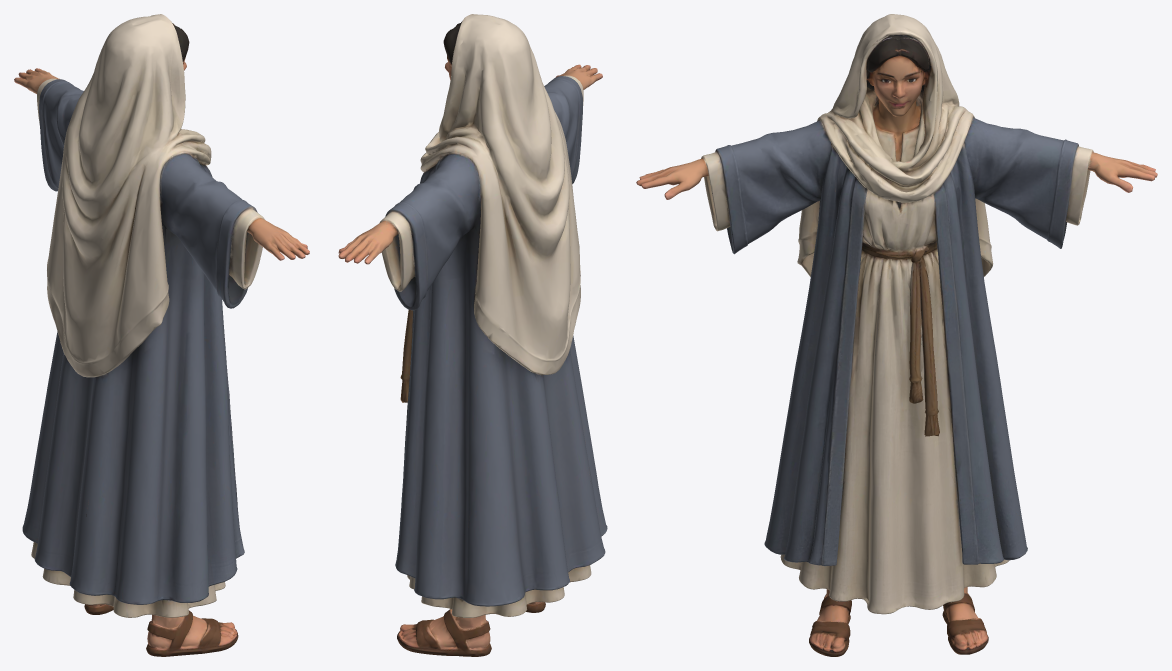
Rendered from mary-tripo-source.glb.
The picture shows the model from 3 angles, left to right: view 1: azimuth 30°, elevation 25°; view 2: azimuth 150°, elevation 25°; view 3: azimuth 270°, elevation 25°; orthographic projection.
Parts seen in each view (by area): view 1: tripo_node_1c4e5cb8-fcf6-401b-b058-ead28cd1d32b; view 2: tripo_node_1c4e5cb8-fcf6-401b-b058-ead28cd1d32b; view 3: tripo_node_1c4e5cb8-fcf6-401b-b058-ead28cd1d32b.
Boxes of the visible parts, box(x1,y1,x2,y2) form: tripo_node_1c4e5cb8-fcf6-401b-b058-ead28cd1d32b: box(14, 14, 309, 656); tripo_node_1c4e5cb8-fcf6-401b-b058-ead28cd1d32b: box(338, 14, 607, 656); tripo_node_1c4e5cb8-fcf6-401b-b058-ead28cd1d32b: box(636, 14, 1157, 656).
Size of the model in its own units: 0.2859 by 1 by 0.7741.
1 material, 1 textured.
